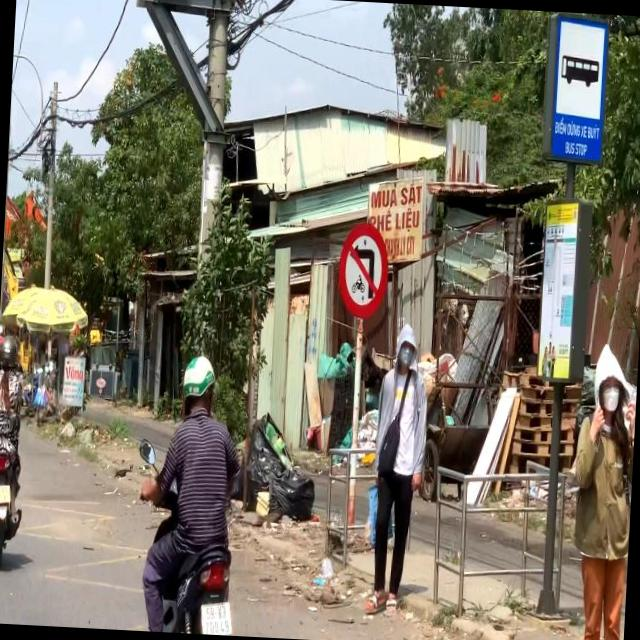I-434a: (548, 19, 611, 164)
P-123a: (336, 220, 391, 321)
